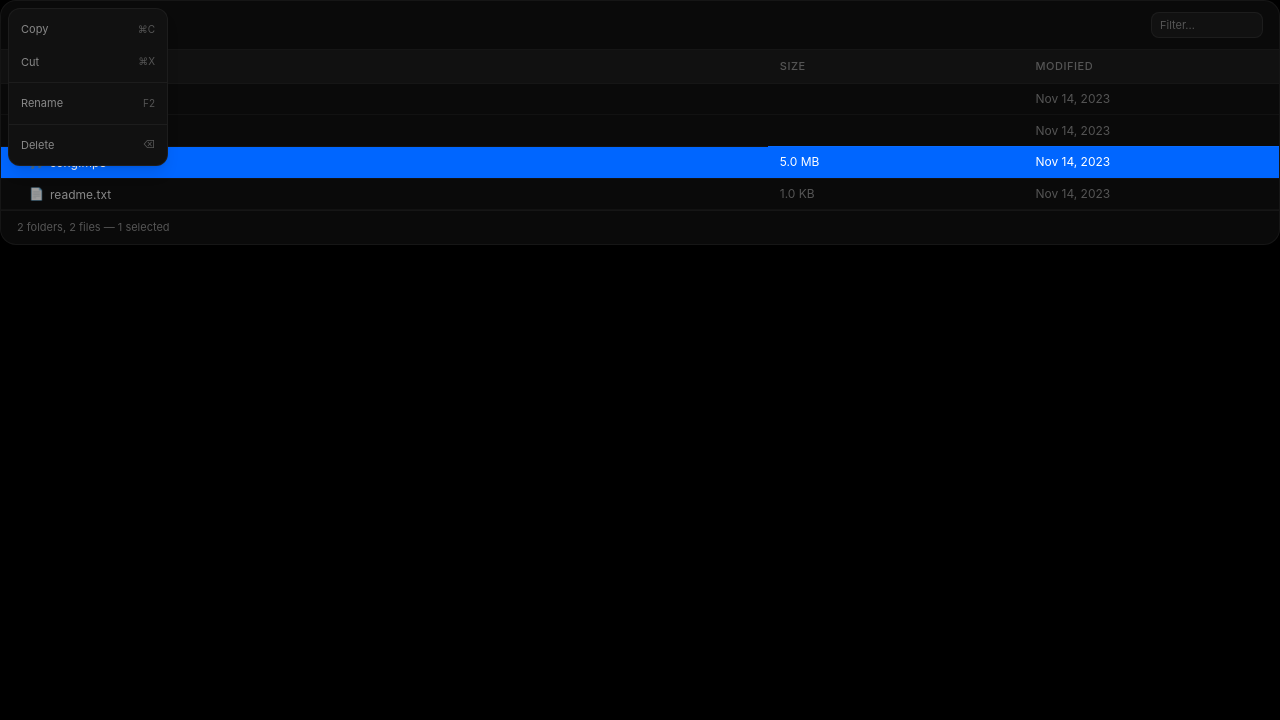
Scenario: FileExplorer › shows confirmation dialog when deleting via context menu
expect the text "song.mp3" is shown: met, box x1=50 y1=155 x2=107 y2=170
Click the text "Delete": (38, 145) x1=21 y1=136 x2=54 y2=153
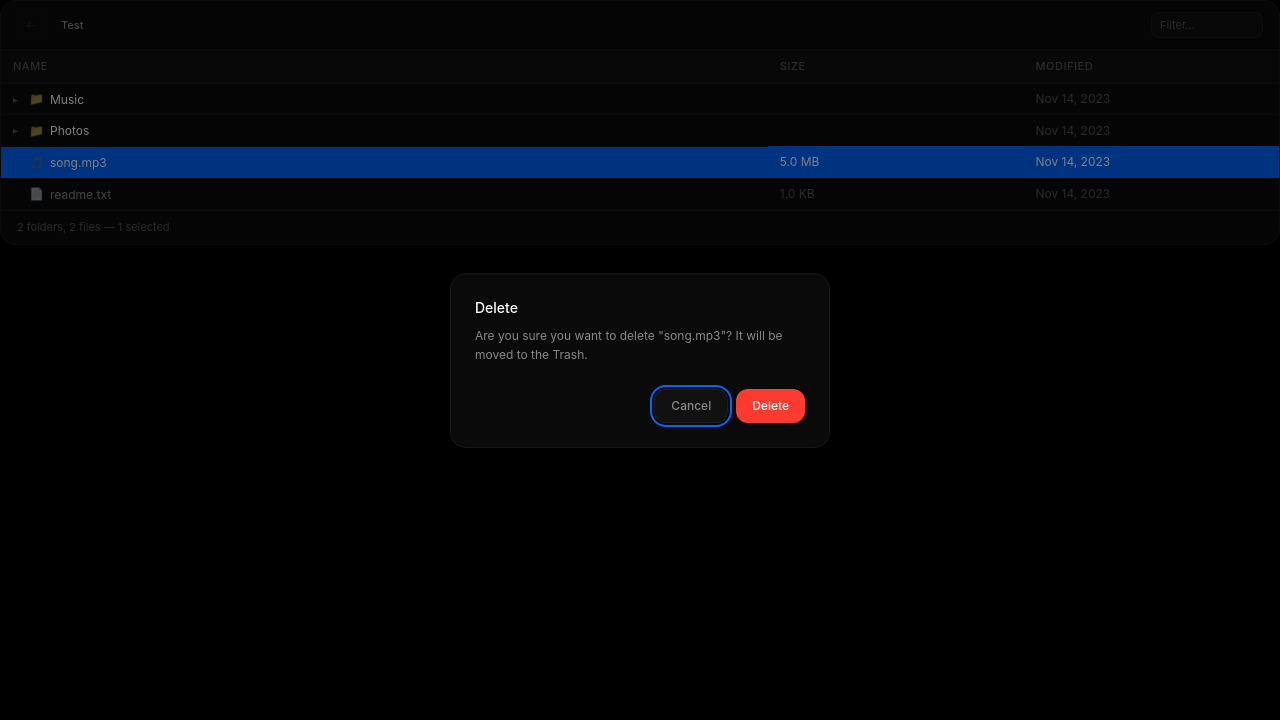
expect the text "Are you sure you want to delete \"song.mp3\"" is shown: met, box x1=475 y1=328 x2=782 y2=362
